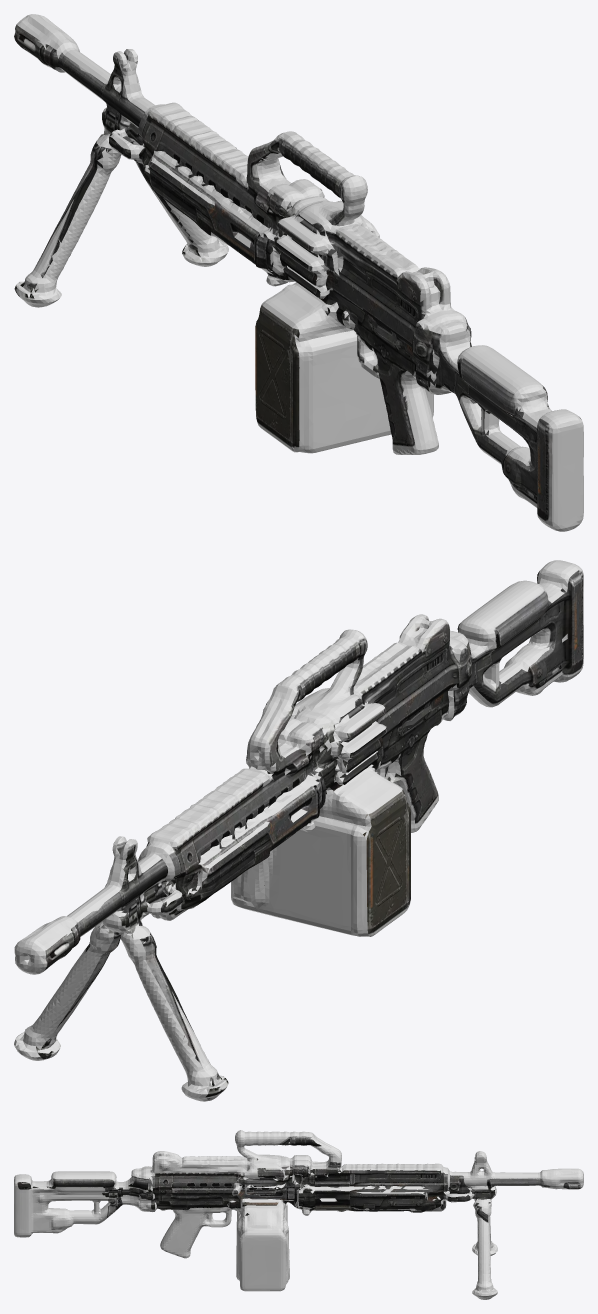
The model's file is warden.glb.
3 renders of one model, top to bottom at view 1: azimuth 30°, elevation 25°; view 2: azimuth 150°, elevation 25°; view 3: azimuth 270°, elevation 25°, orthographic. The views are drawn at different scales.
Parts seen in each view (by area): view 1: geometry_0; view 2: geometry_0; view 3: geometry_0.
Part boxes in pixels (x1,y1,x2,y2): geometry_0: (14, 14, 583, 531); geometry_0: (14, 560, 583, 1101); geometry_0: (14, 1130, 583, 1299).
Bounding box in the file's own units: 0.2202 × 0.2824 × 1.
Materials: 1 (1 with a texture image).
